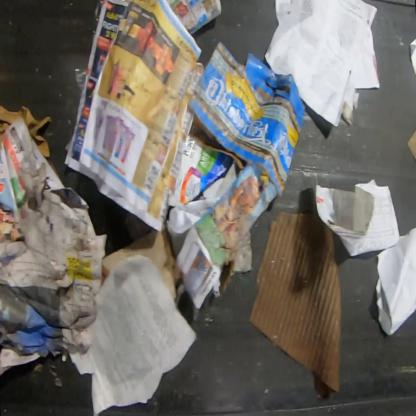cardboard: (186, 42, 304, 199), (248, 212, 341, 397), (103, 228, 181, 291), (168, 137, 233, 206)
soft_plastic: (76, 67, 88, 92)
